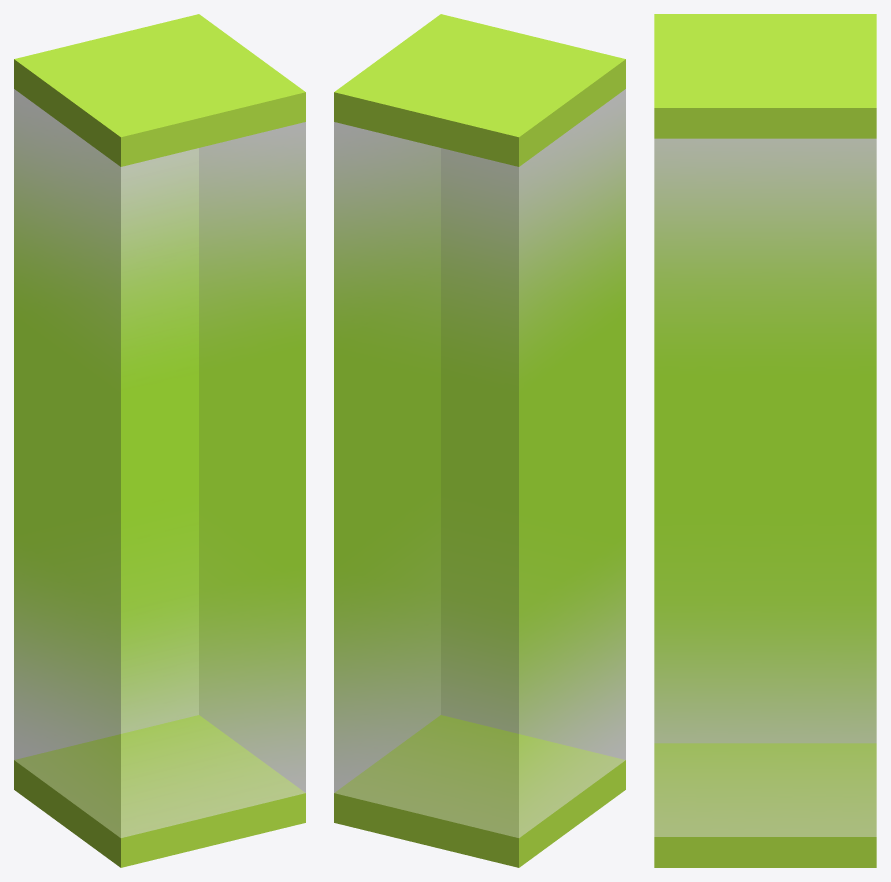
Rendered from Greencube_Glass.fbx.
3 renders of one model, left to right at view 1: azimuth 30°, elevation 25°; view 2: azimuth 150°, elevation 25°; view 3: azimuth 270°, elevation 25°, orthographic. The views are drawn at different scales.
Visible parts, largest first — view 1: Greencube_Glass; view 2: Greencube_Glass; view 3: Greencube_Glass.
Boxes of the visible parts, x1,y1,x2,y2 form: Greencube_Glass: (14,14,305,867); Greencube_Glass: (334,14,625,867); Greencube_Glass: (654,14,876,867).
Size of the model in its own units: 63.87 by 241 by 63.87.
2 materials, 1 textured.
